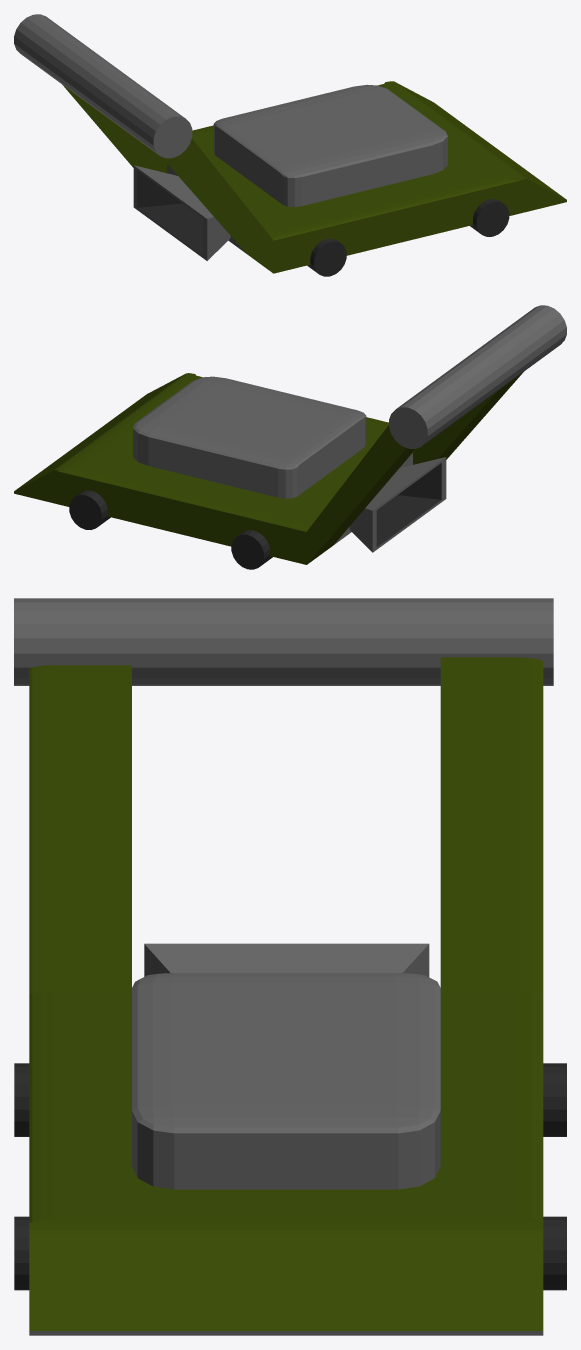
The model's file is Grasmaaier.fbx.
3 views of the same model, one above another, from view 1: azimuth 30°, elevation 25°; view 2: azimuth 150°, elevation 25°; view 3: azimuth 270°, elevation 25° (orthographic). The views are drawn at different scales.
Visible parts, largest first — view 1: Cube; view 2: Cube; view 3: Cube.
Part boxes in pixels (x1,y1,x2,y2): Cube: (14,14,566,276); Cube: (14,305,566,569); Cube: (14,598,566,1335).
Size of the model in its own units: 2520 by 1143 by 1497.
